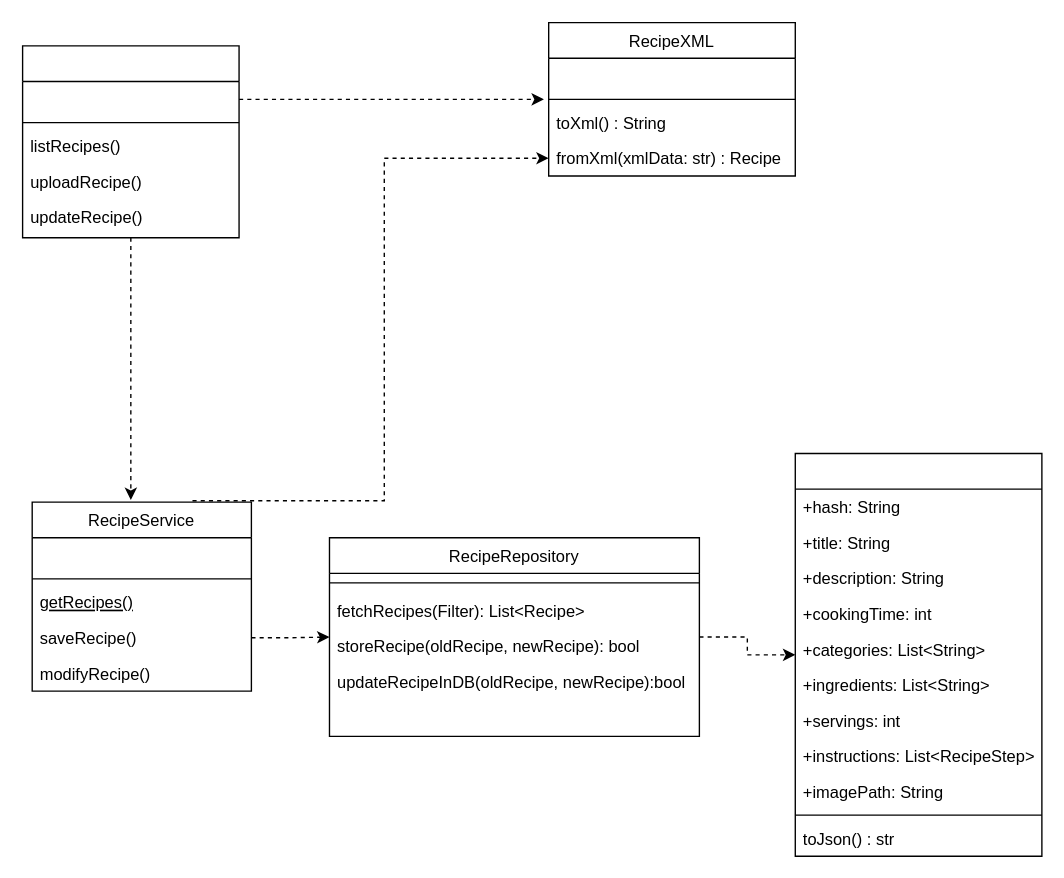
Image size: 1064x878. Some labels were removed from this diagram. The box of each missing label's shape, as (x1, y1, x2, y2) in pixels:
Recipe: (794, 452, 1042, 856)
ServerController: (21, 45, 239, 238)
